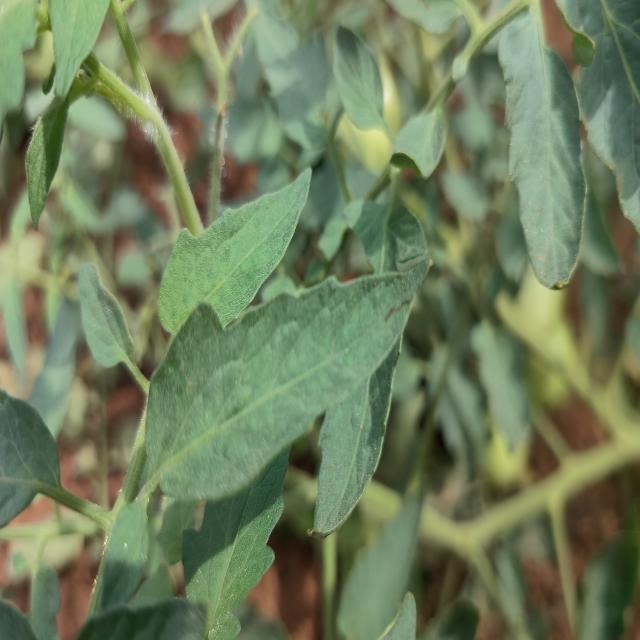tomato_healthy: (143, 257, 438, 500), (155, 169, 314, 343), (501, 0, 586, 292)
